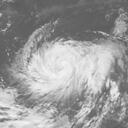cyclone: (25, 41, 93, 97)
